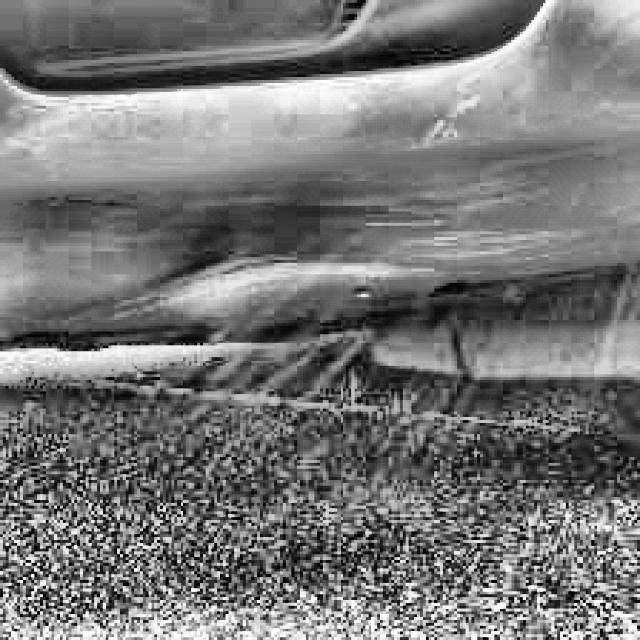bumper_dent: (174, 184, 377, 306)
